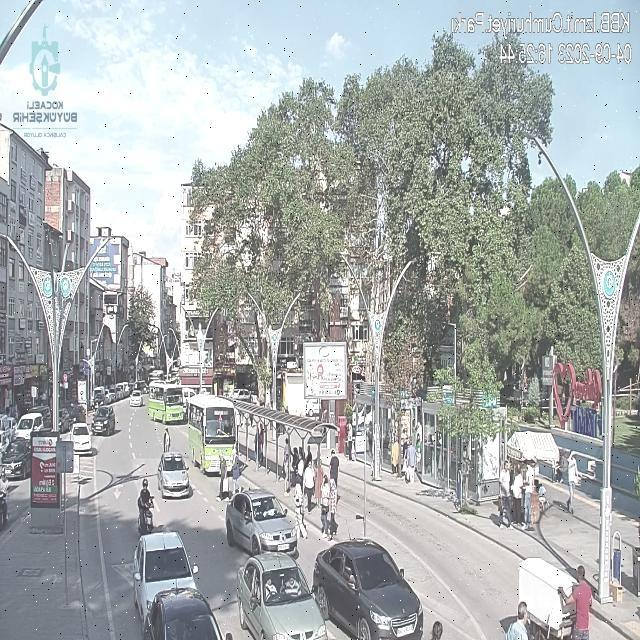Bus: (186, 394, 238, 476), (147, 380, 186, 426)
Car: (314, 537, 422, 639), (235, 550, 327, 638), (131, 532, 203, 627), (225, 488, 298, 556), (157, 451, 193, 498), (1, 439, 32, 479), (14, 412, 46, 442), (92, 406, 117, 436), (70, 422, 92, 454), (230, 389, 252, 402), (130, 390, 143, 407)
